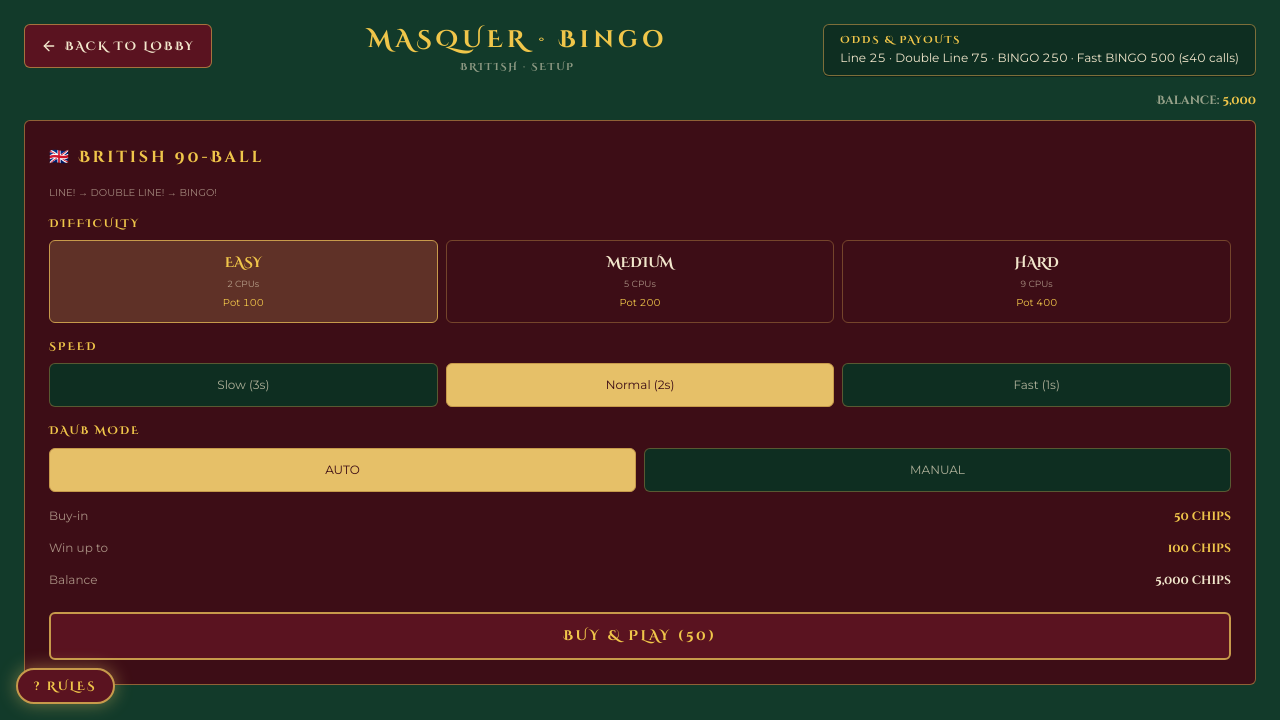
Test: BingoPage › clicking RULES opens the modal with both variants
The width and height of the screenshot is (1280, 720).
Click the button with aria-label "Show game rules".
click(65, 686)  # box 16,668 -> 115,704
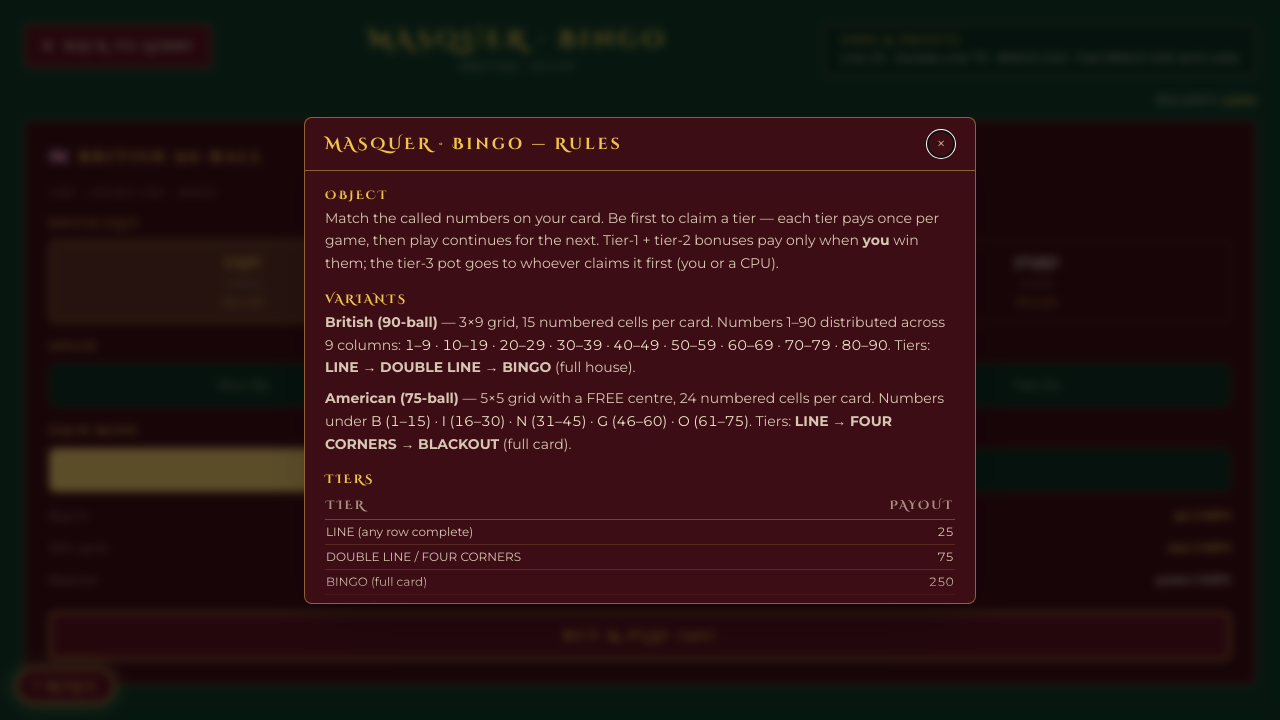
Result: the dialog is shown at 304,116 -> 976,604
Result: the text "British (90-ball)" is shown at 325,313 -> 438,331
Result: the text "American (75-ball)" is shown at 325,389 -> 459,407
